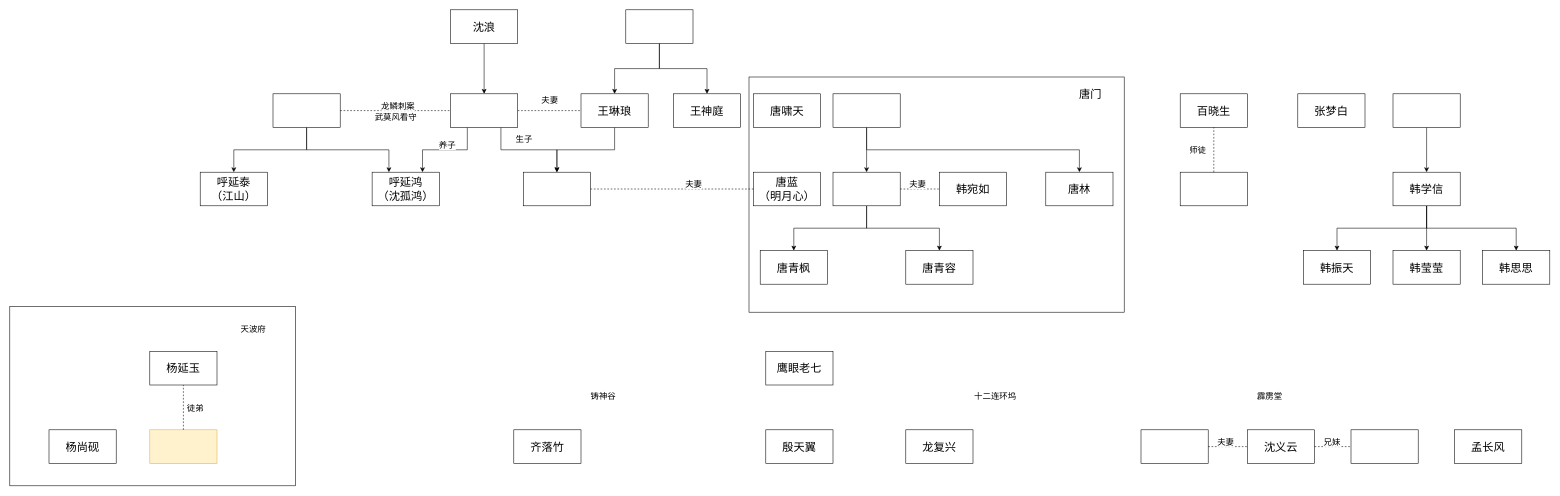
Some shapes in this 1560 by 496 pixel diagram are drawn without their labels. The box of each missing label's shape, as (x1, y1, x2, y2) in pixels:
呼延显: (272, 93, 340, 127)
唐太岳: (832, 172, 900, 206)
曲无忆: (1180, 172, 1247, 206)
沈义风: (1350, 429, 1418, 463)
沈孤雁 （公子羽）: (523, 172, 591, 206)
沈沧海: (450, 93, 518, 127)
王怜花: (625, 9, 693, 43)
王郅君: (832, 93, 900, 127)
离玉堂: (149, 429, 217, 463)
莫东来: (1140, 429, 1208, 463)
韩守琼: (1392, 93, 1460, 127)
